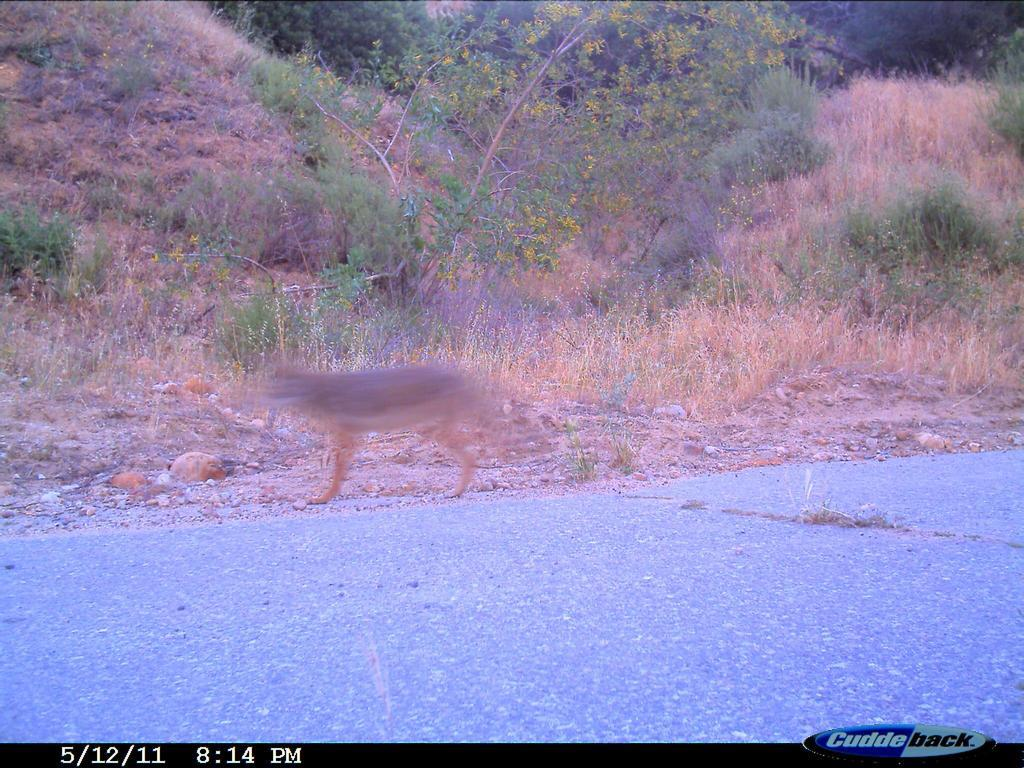coyote: (248, 347, 527, 507)
